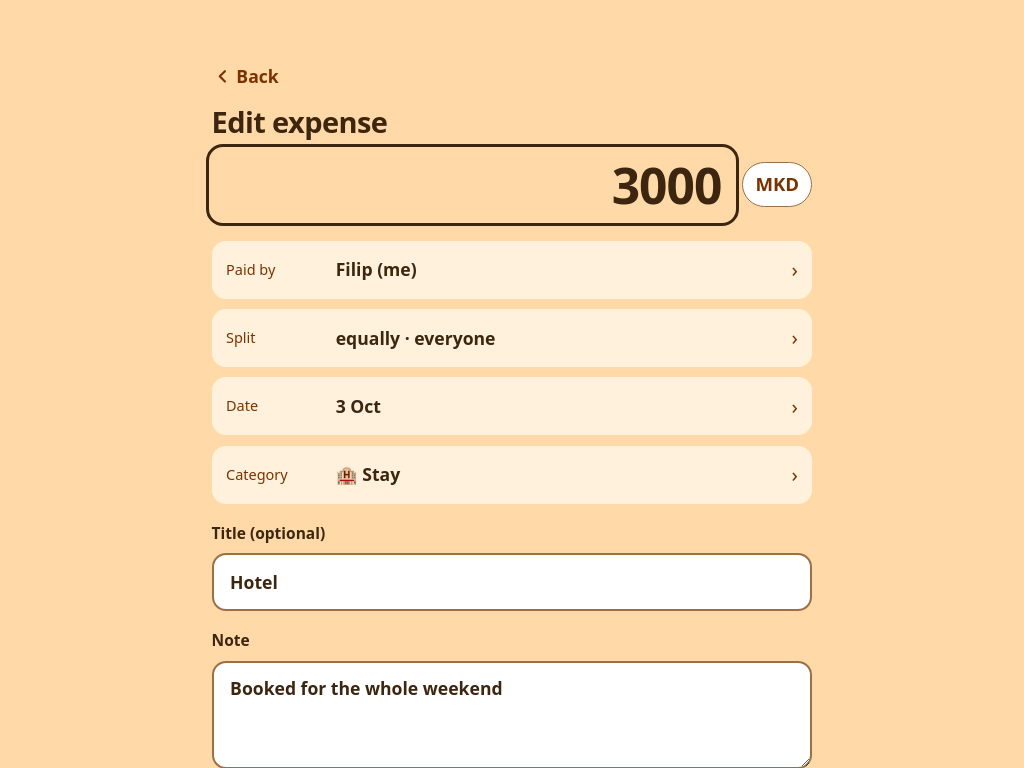
EditExpenseScreen › the Date sheet › shows the applied date in the Date row after Done
Click the button "Date 3 Oct ›" at (242, 406), box [212,377,812,435]
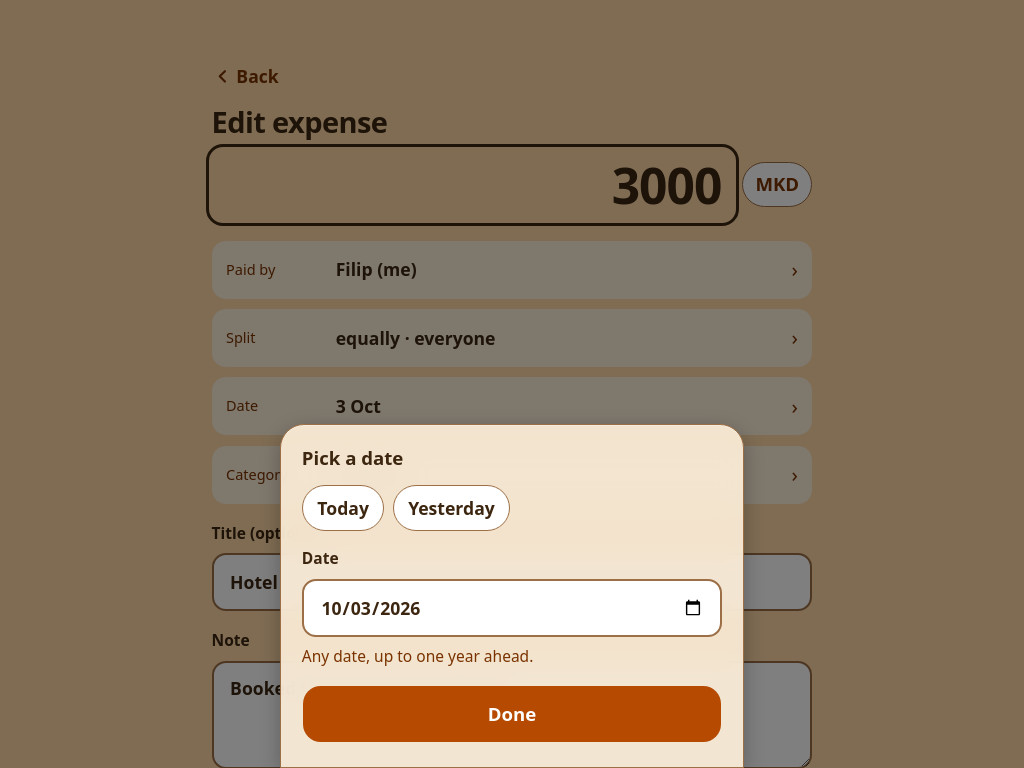
Type "2026-12-12" into the date field labelled "Date" at (512, 608), box [302,579,722,637]
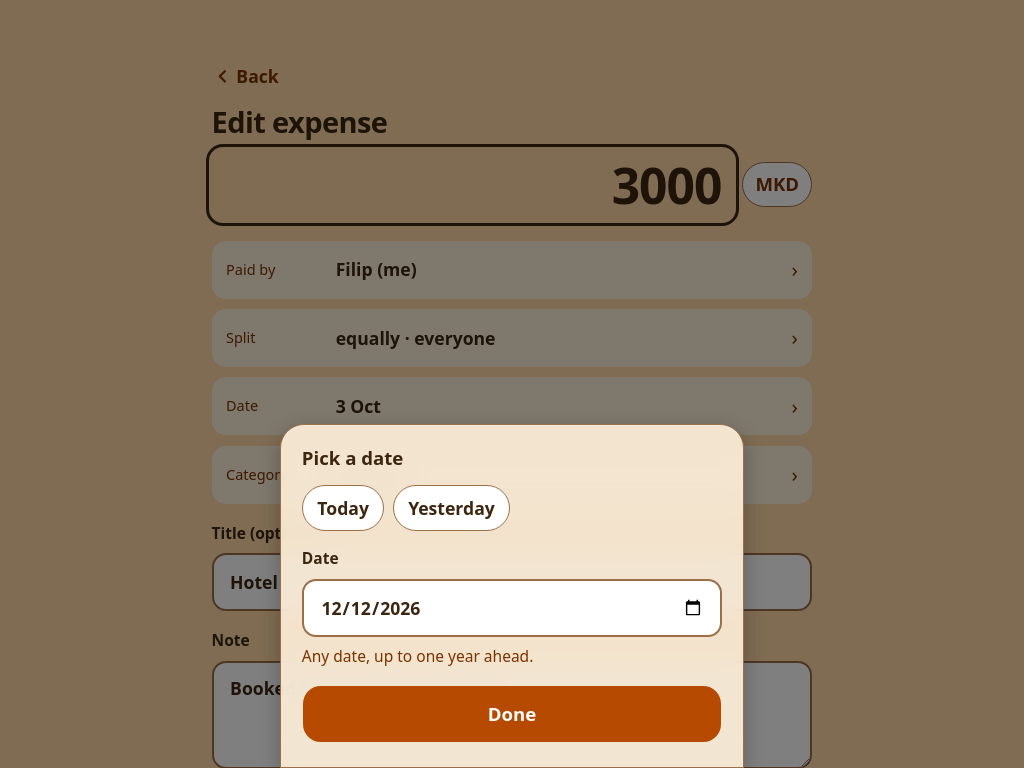
Click the button "Done" at (512, 714), box [302,685,722,743]
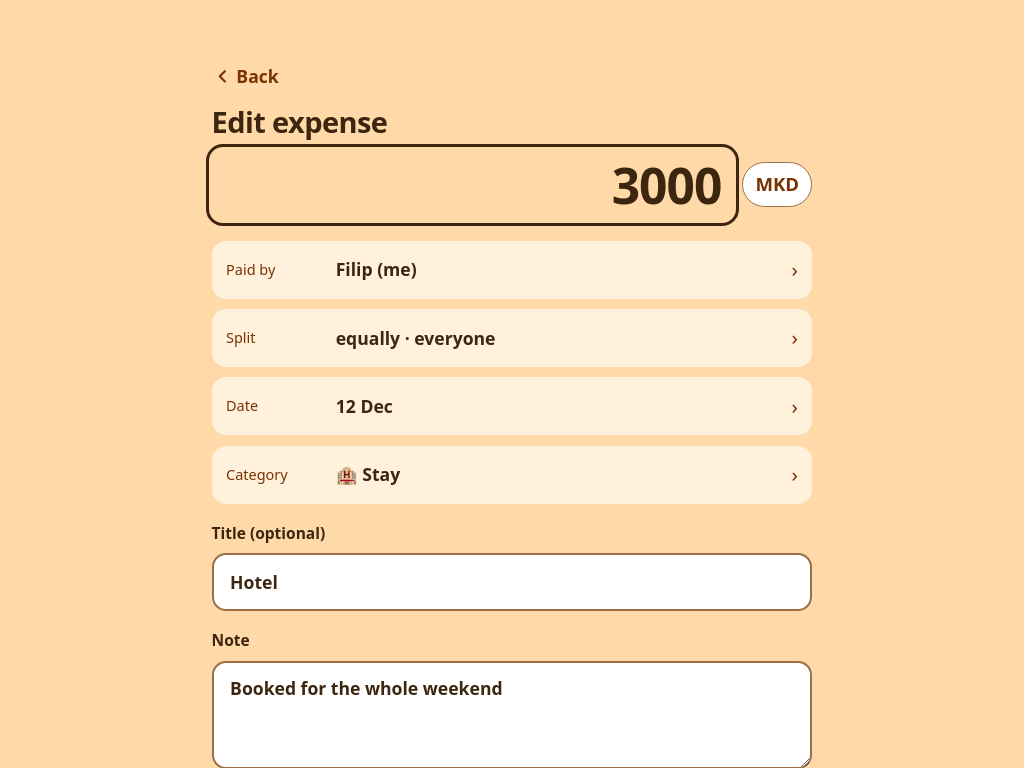
Now the dialog is gone
